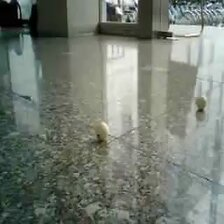w: (94, 119, 110, 140), (194, 96, 207, 110)
